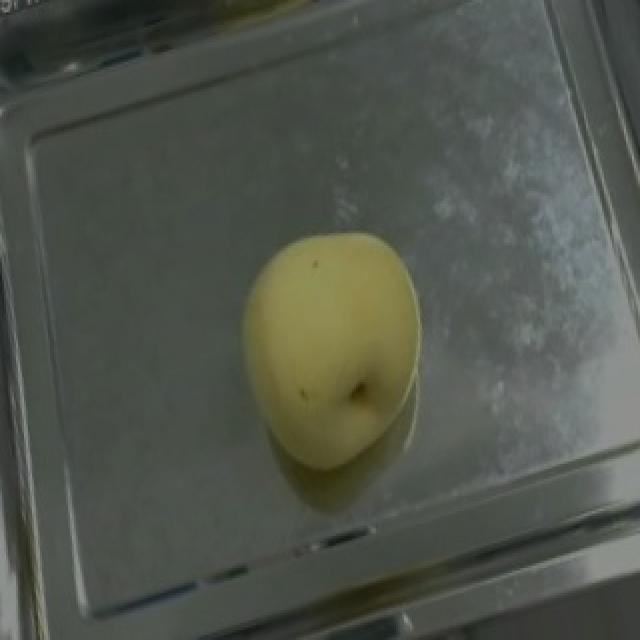Fruit: (200, 198, 462, 504)
